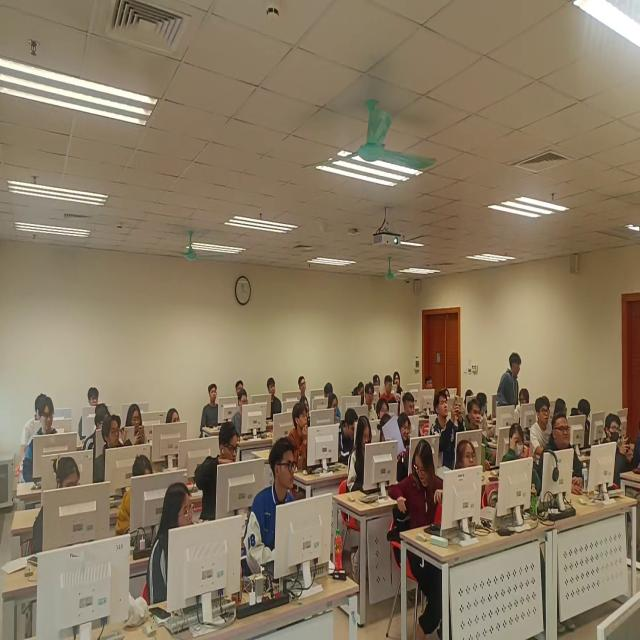raise_hand: (498, 420, 536, 534)
raise_head: (243, 436, 299, 615), (197, 417, 243, 525), (24, 398, 61, 487), (92, 413, 130, 498), (285, 400, 313, 479), (533, 389, 555, 458), (464, 397, 488, 460), (79, 384, 101, 446), (200, 382, 223, 441), (264, 373, 283, 430), (166, 407, 181, 454), (295, 369, 311, 413), (394, 365, 404, 401), (424, 370, 434, 400), (373, 374, 382, 400)
stand: (498, 346, 522, 427)
using_computer: (33, 452, 83, 569), (114, 443, 156, 542), (572, 392, 597, 453), (338, 402, 359, 468), (353, 373, 365, 412), (327, 396, 341, 426), (404, 392, 416, 422)
using_phone: (592, 406, 634, 506), (431, 382, 466, 464), (125, 397, 148, 462)
